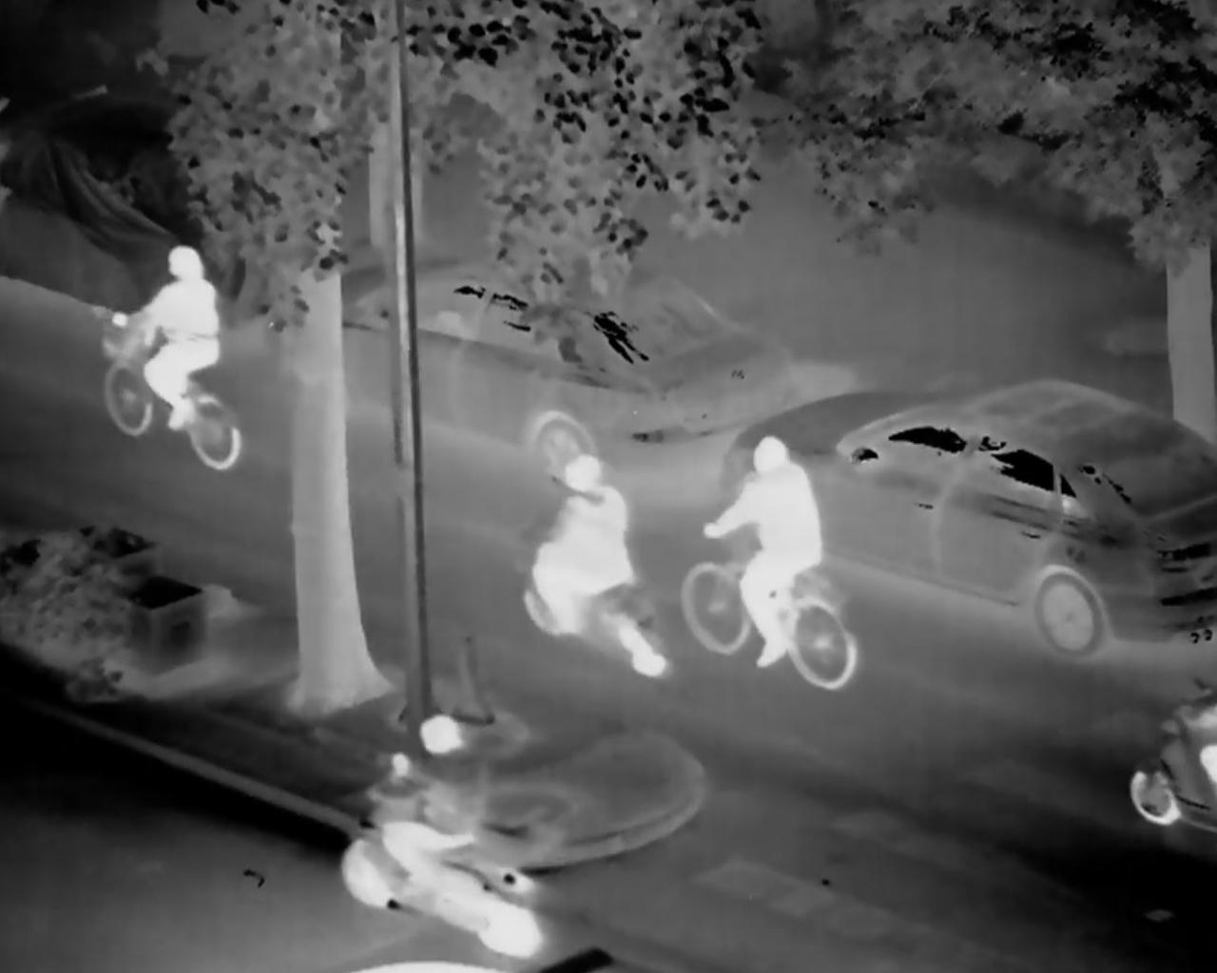person: (702, 431, 825, 674), (383, 706, 493, 901), (115, 246, 222, 424), (531, 451, 632, 635)
